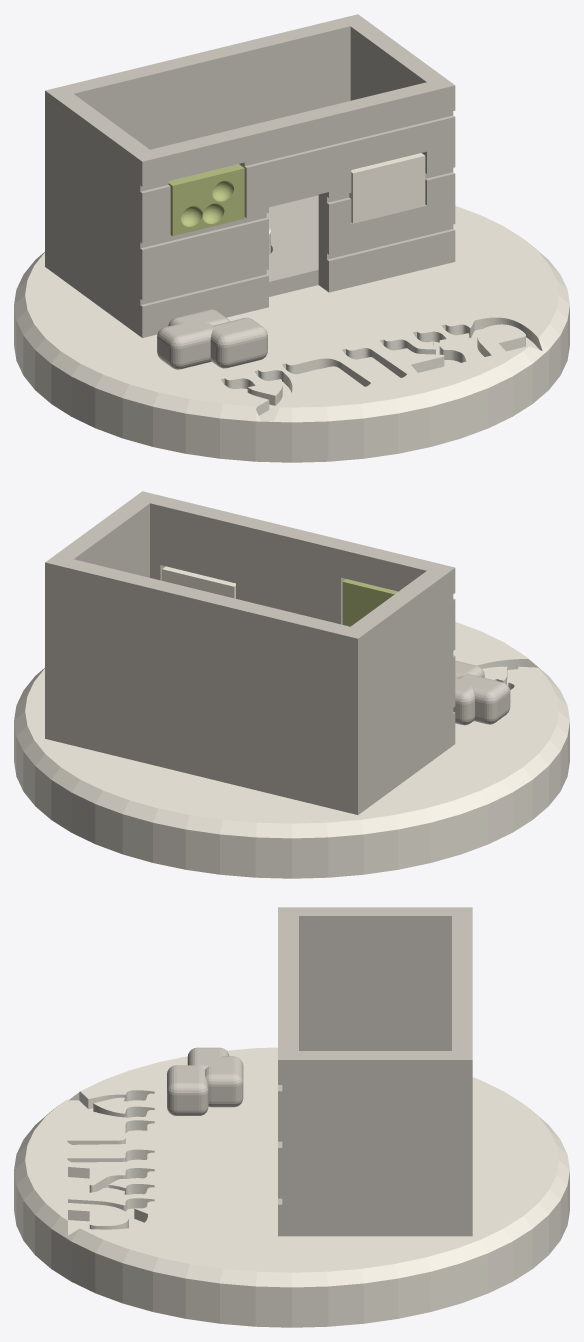
The model's file is metzora.glb.
The picture shows the model from 3 angles, top to bottom: view 1: azimuth 30°, elevation 25°; view 2: azimuth 150°, elevation 25°; view 3: azimuth 270°, elevation 25°; orthographic projection.
Visible parts, largest first — view 1: house, stage, rubble, sick-stone, new-stone; view 2: house, stage, rubble, sick-stone, new-stone; view 3: stage, house, rubble.
Boxes of the visible parts, bbox=[...] form: house: bbox=[45, 14, 455, 337]; stage: bbox=[14, 206, 569, 462]; rubble: bbox=[157, 309, 267, 369]; sick-stone: bbox=[168, 164, 244, 236]; new-stone: bbox=[349, 153, 425, 223]; house: bbox=[45, 491, 455, 814]; stage: bbox=[14, 622, 569, 878]; rubble: bbox=[453, 660, 510, 725]; sick-stone: bbox=[342, 579, 397, 626]; new-stone: bbox=[162, 566, 235, 598]; stage: bbox=[14, 1047, 569, 1327]; house: bbox=[278, 907, 472, 1236]; rubble: bbox=[167, 1047, 243, 1115].
Size of the model in its own units: 40 by 18 by 40.
